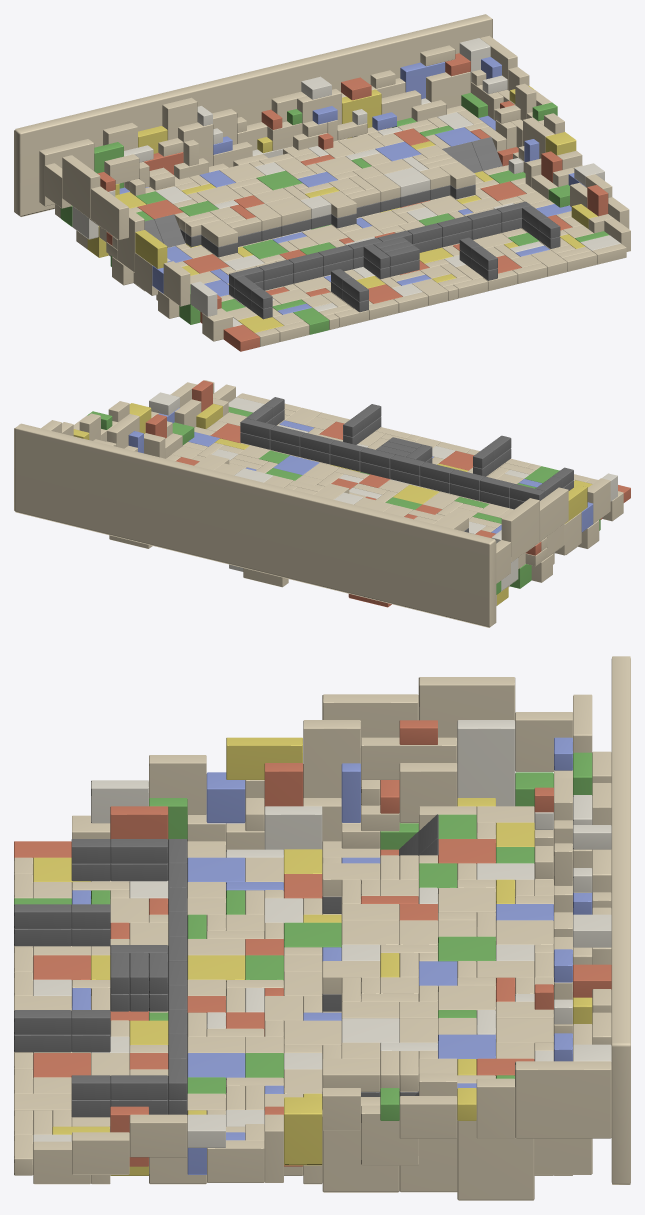
File: battle field kakko kari.fbx
The picture shows the model from 3 angles, top to bottom: view 1: azimuth 30°, elevation 25°; view 2: azimuth 150°, elevation 25°; view 3: azimuth 270°, elevation 25°; orthographic projection. The views are drawn at different scales.
Visible parts, largest first — view 1: pCube945, pCube930, pCube931, pCube935, pCube953, pCube943, pCube915, pCube374, pCube954, pCube920, pCube378, pCube377 (+70 smaller); view 2: pCube945, pCube930, pCube931, pCube915, pCube988, pCube979, pCube929, pCube920, pCube969, pCube984, pCube829, pCube691 (+30 smaller); view 3: pCube945, pCube1001, pCube996, pCube917, pCube930, pCube916, pCube988, pCube931, pCube909, pCube921, pCube915, pCube929 (+113 smaller).
Boxes of the visible parts, x1=… form: pCube945: x1=14, y1=14, x2=492, y2=216; pCube930: x1=62, y1=155, x2=100, y2=218; pCube931: x1=91, y1=186, x2=128, y2=239; pCube935: x1=39, y1=139, x2=94, y2=206; pCube953: x1=426, y1=72, x2=470, y2=108; pCube943: x1=162, y1=97, x2=197, y2=140; pCube915: x1=163, y1=261, x2=190, y2=306; pCube374: x1=178, y1=122, x2=213, y2=166; pCube954: x1=400, y1=62, x2=445, y2=99; pCube920: x1=135, y1=230, x2=167, y2=268; pCube378: x1=342, y1=89, x2=381, y2=138; pCube377: x1=297, y1=89, x2=341, y2=133; pCube945: x1=14, y1=423, x2=496, y2=627; pCube930: x1=501, y1=498, x2=539, y2=562; pCube931: x1=540, y1=487, x2=568, y2=541; pCube915: x1=587, y1=478, x2=610, y2=523; pCube988: x1=107, y1=414, x2=139, y2=448; pCube979: x1=555, y1=512, x2=581, y2=555; pCube929: x1=496, y1=540, x2=510, y2=583; pCube920: x1=565, y1=485, x2=587, y2=523; pCube969: x1=174, y1=399, x2=201, y2=427; pCube984: x1=149, y1=392, x2=179, y2=415; pCube829: x1=273, y1=455, x2=319, y2=475; pCube691: x1=393, y1=484, x2=438, y2=504; pCube945: x1=611, y1=656, x2=630, y2=1184; pCube1001: x1=515, y1=1061, x2=611, y2=1138; pCube996: x1=457, y1=1120, x2=534, y2=1200; pCube917: x1=457, y1=720, x2=515, y2=806; pCube930: x1=418, y1=677, x2=515, y2=737; pCube916: x1=303, y1=720, x2=360, y2=798; pCube988: x1=322, y1=1097, x2=399, y2=1192; pCube931: x1=322, y1=694, x2=418, y2=737; pCube909: x1=399, y1=763, x2=457, y2=823; pCube921: x1=361, y1=737, x2=457, y2=779; pCube915: x1=149, y1=755, x2=206, y2=814; pCube929: x1=515, y1=712, x2=572, y2=771.
Bounding box in the file's own units: 1434 × 289 × 960.
